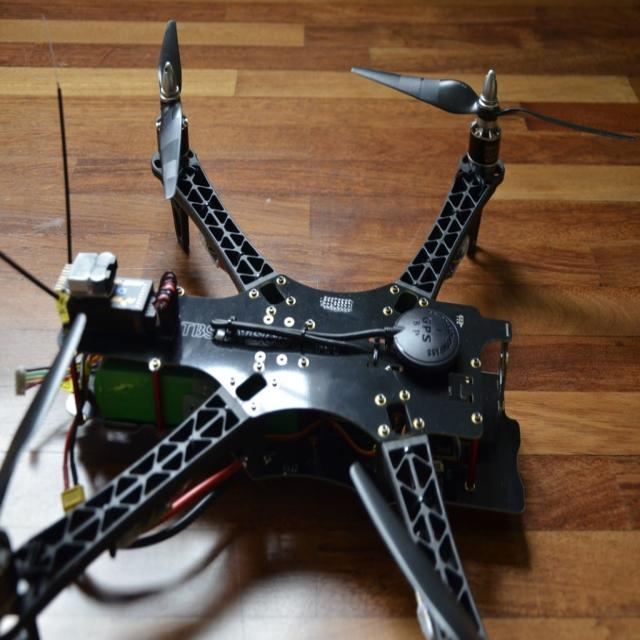drone: (0, 62, 579, 639)
